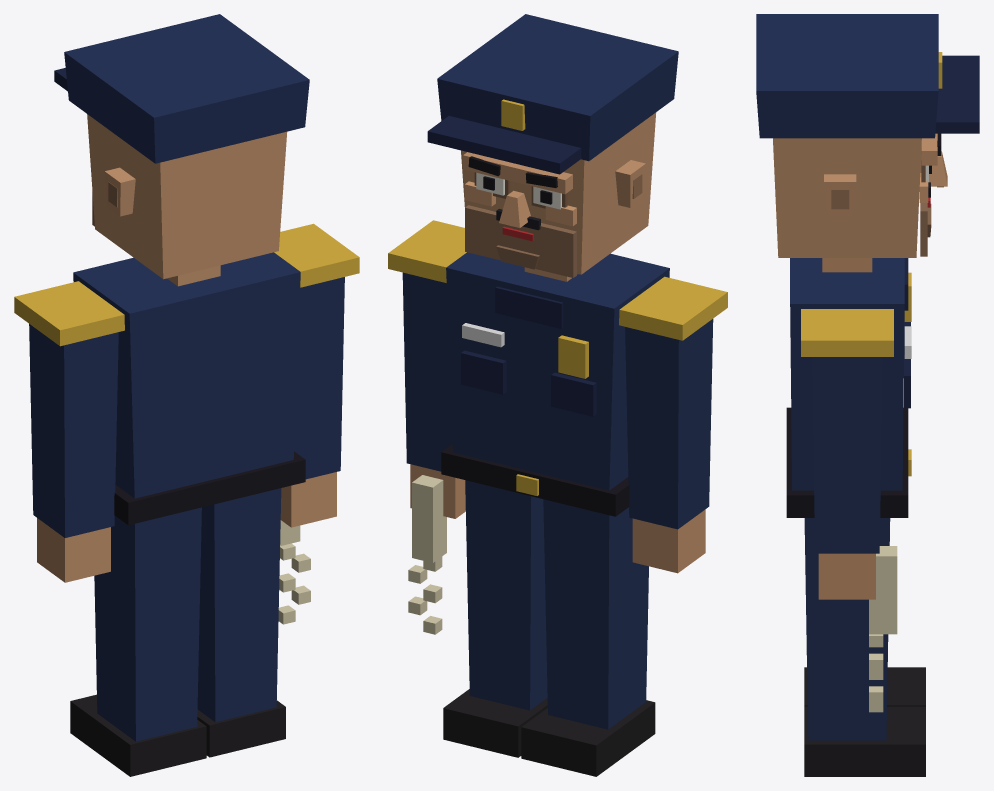
File: guard.glb
The picture shows the model from 3 angles, left to right: view 1: azimuth 30°, elevation 25°; view 2: azimuth 150°, elevation 25°; view 3: azimuth 270°, elevation 25°; orthographic projection. The views are drawn at different scales.
Parts seen in each view (by area): view 1: Head, Torso, LegL, ArmL, LegR, ArmR; view 2: Head, Torso, LegL, ArmL, LegR, ArmR; view 3: Head, ArmR, LegR, Torso, LegL, NeckMesh.
Boxes of the visible parts, x1,y1,x2,y2 form: Head: (54, 14, 309, 279); Torso: (73, 252, 305, 525); LegL: (70, 507, 206, 776); ArmL: (14, 281, 124, 582); LegR: (197, 488, 285, 757); ArmR: (274, 223, 359, 624); Head: (427, 14, 678, 277); Torso: (441, 252, 669, 516); LegL: (521, 499, 655, 776); ArmL: (619, 276, 727, 573); LegR: (443, 480, 547, 757); ArmR: (388, 220, 466, 634); Head: (756, 14, 979, 257); ArmR: (801, 309, 897, 712); LegR: (804, 518, 925, 776); Torso: (786, 258, 911, 517); LegL: (804, 667, 925, 706); NeckMesh: (822, 258, 872, 272).
Bounding box in the file's own units: 0.98 × 2.12 × 0.6248.
